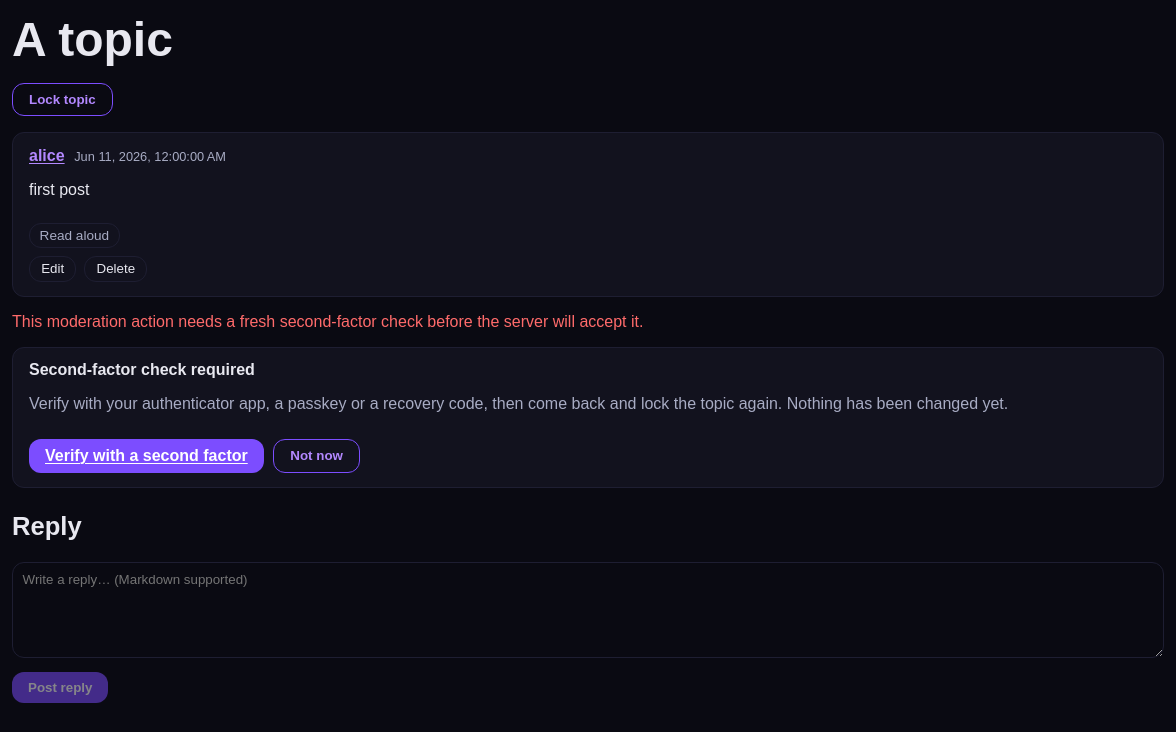
Test case: TopicDetailComponent › "Not now" dismisses the offer without performing anything
Expected: the element with test id "mod-step-up" is shown, [12,347,1164,488]
Click the button with test id "mod-step-up-dismiss".
click(317, 456)  # box [273,439,360,473]
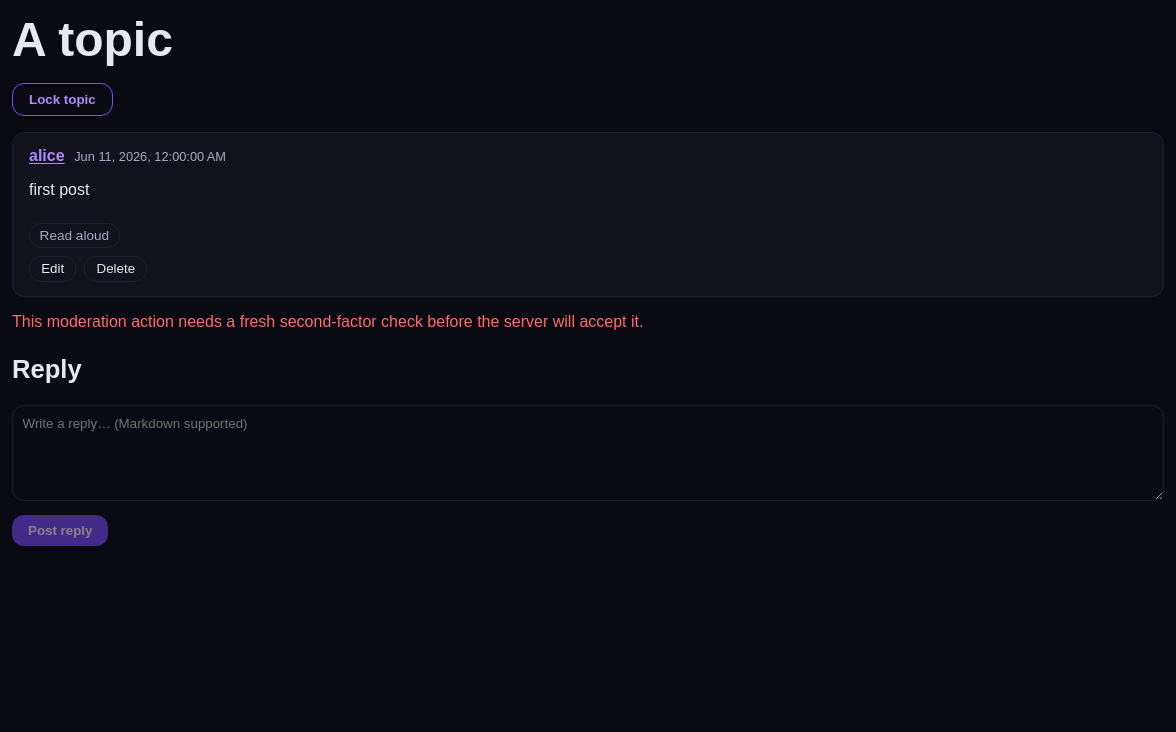
Expected: the element with test id "mod-step-up" is gone
